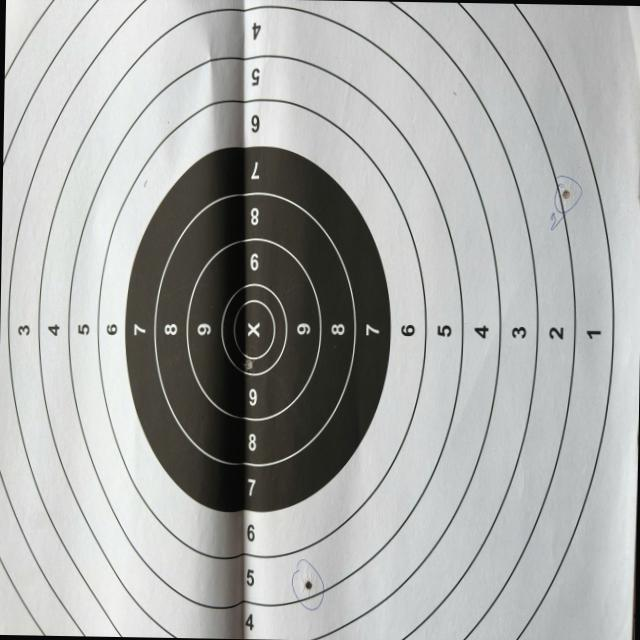bullet: (558, 183, 572, 204), (243, 357, 252, 372), (304, 579, 311, 590)
target: (0, 0, 640, 640)
